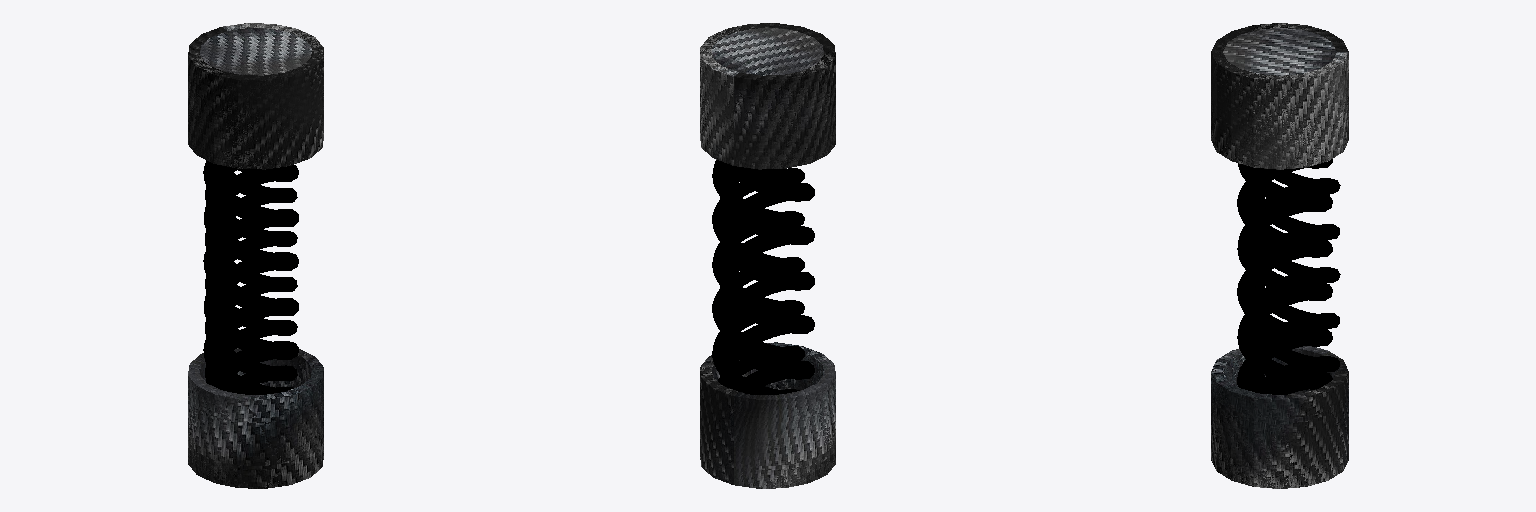
3 views of the same model, side by side, from view 1: azimuth 30°, elevation 25°; view 2: azimuth 150°, elevation 25°; view 3: azimuth 270°, elevation 25° (orthographic).
Visible parts, largest first — view 1: tubo:Cap, tubo:Spiral_Glass, tubo:Cap_High_Poly, tubo:Spiral; view 2: tubo:Cap, tubo:Spiral, tubo:Spiral_Glass, tubo:Cap_High_Poly; view 3: tubo:Cap, tubo:Spiral_Glass, tubo:Cap_High_Poly, tubo:Spiral.
Part boxes in pixels (bbox=[...]): tubo:Cap: bbox=[188, 23, 323, 488]; tubo:Spiral_Glass: bbox=[203, 161, 298, 394]; tubo:Cap_High_Poly: bbox=[188, 23, 323, 488]; tubo:Spiral: bbox=[205, 160, 297, 392]; tubo:Cap: bbox=[700, 23, 835, 488]; tubo:Spiral: bbox=[712, 160, 804, 394]; tubo:Spiral_Glass: bbox=[720, 162, 814, 391]; tubo:Cap_High_Poly: bbox=[700, 23, 835, 488]; tubo:Cap: bbox=[1211, 23, 1348, 488]; tubo:Spiral_Glass: bbox=[1237, 159, 1332, 393]; tubo:Cap_High_Poly: bbox=[1211, 23, 1348, 488]; tubo:Spiral: bbox=[1247, 168, 1340, 394].
Bounding box in the file's own units: 0.0536 × 0.1758 × 0.0536.
Materials: 3 (1 with a texture image).